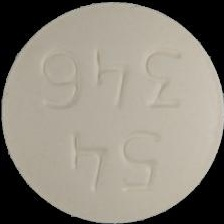68151-0245: (0, 0, 224, 224)
